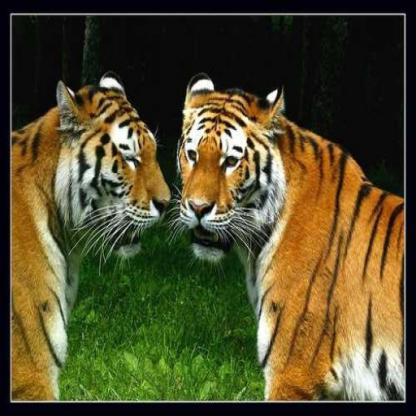Tiger: (170, 69, 400, 398), (13, 58, 177, 406)
